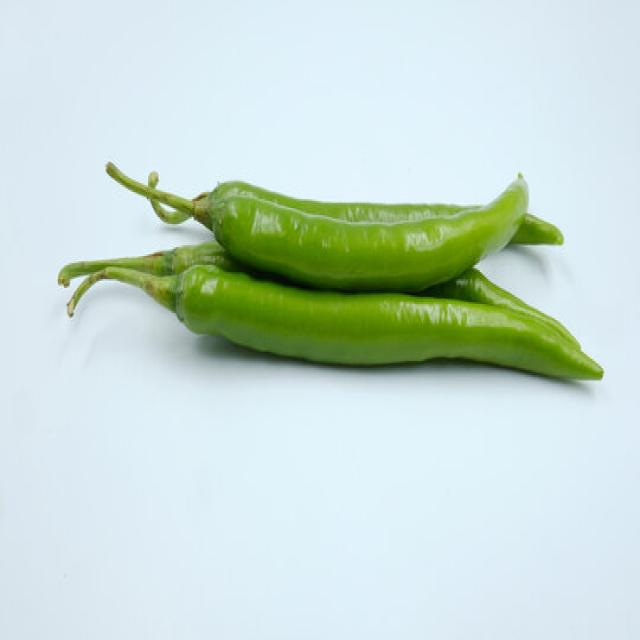Chilli: (63, 258, 603, 380), (103, 158, 541, 292), (57, 240, 242, 286)
